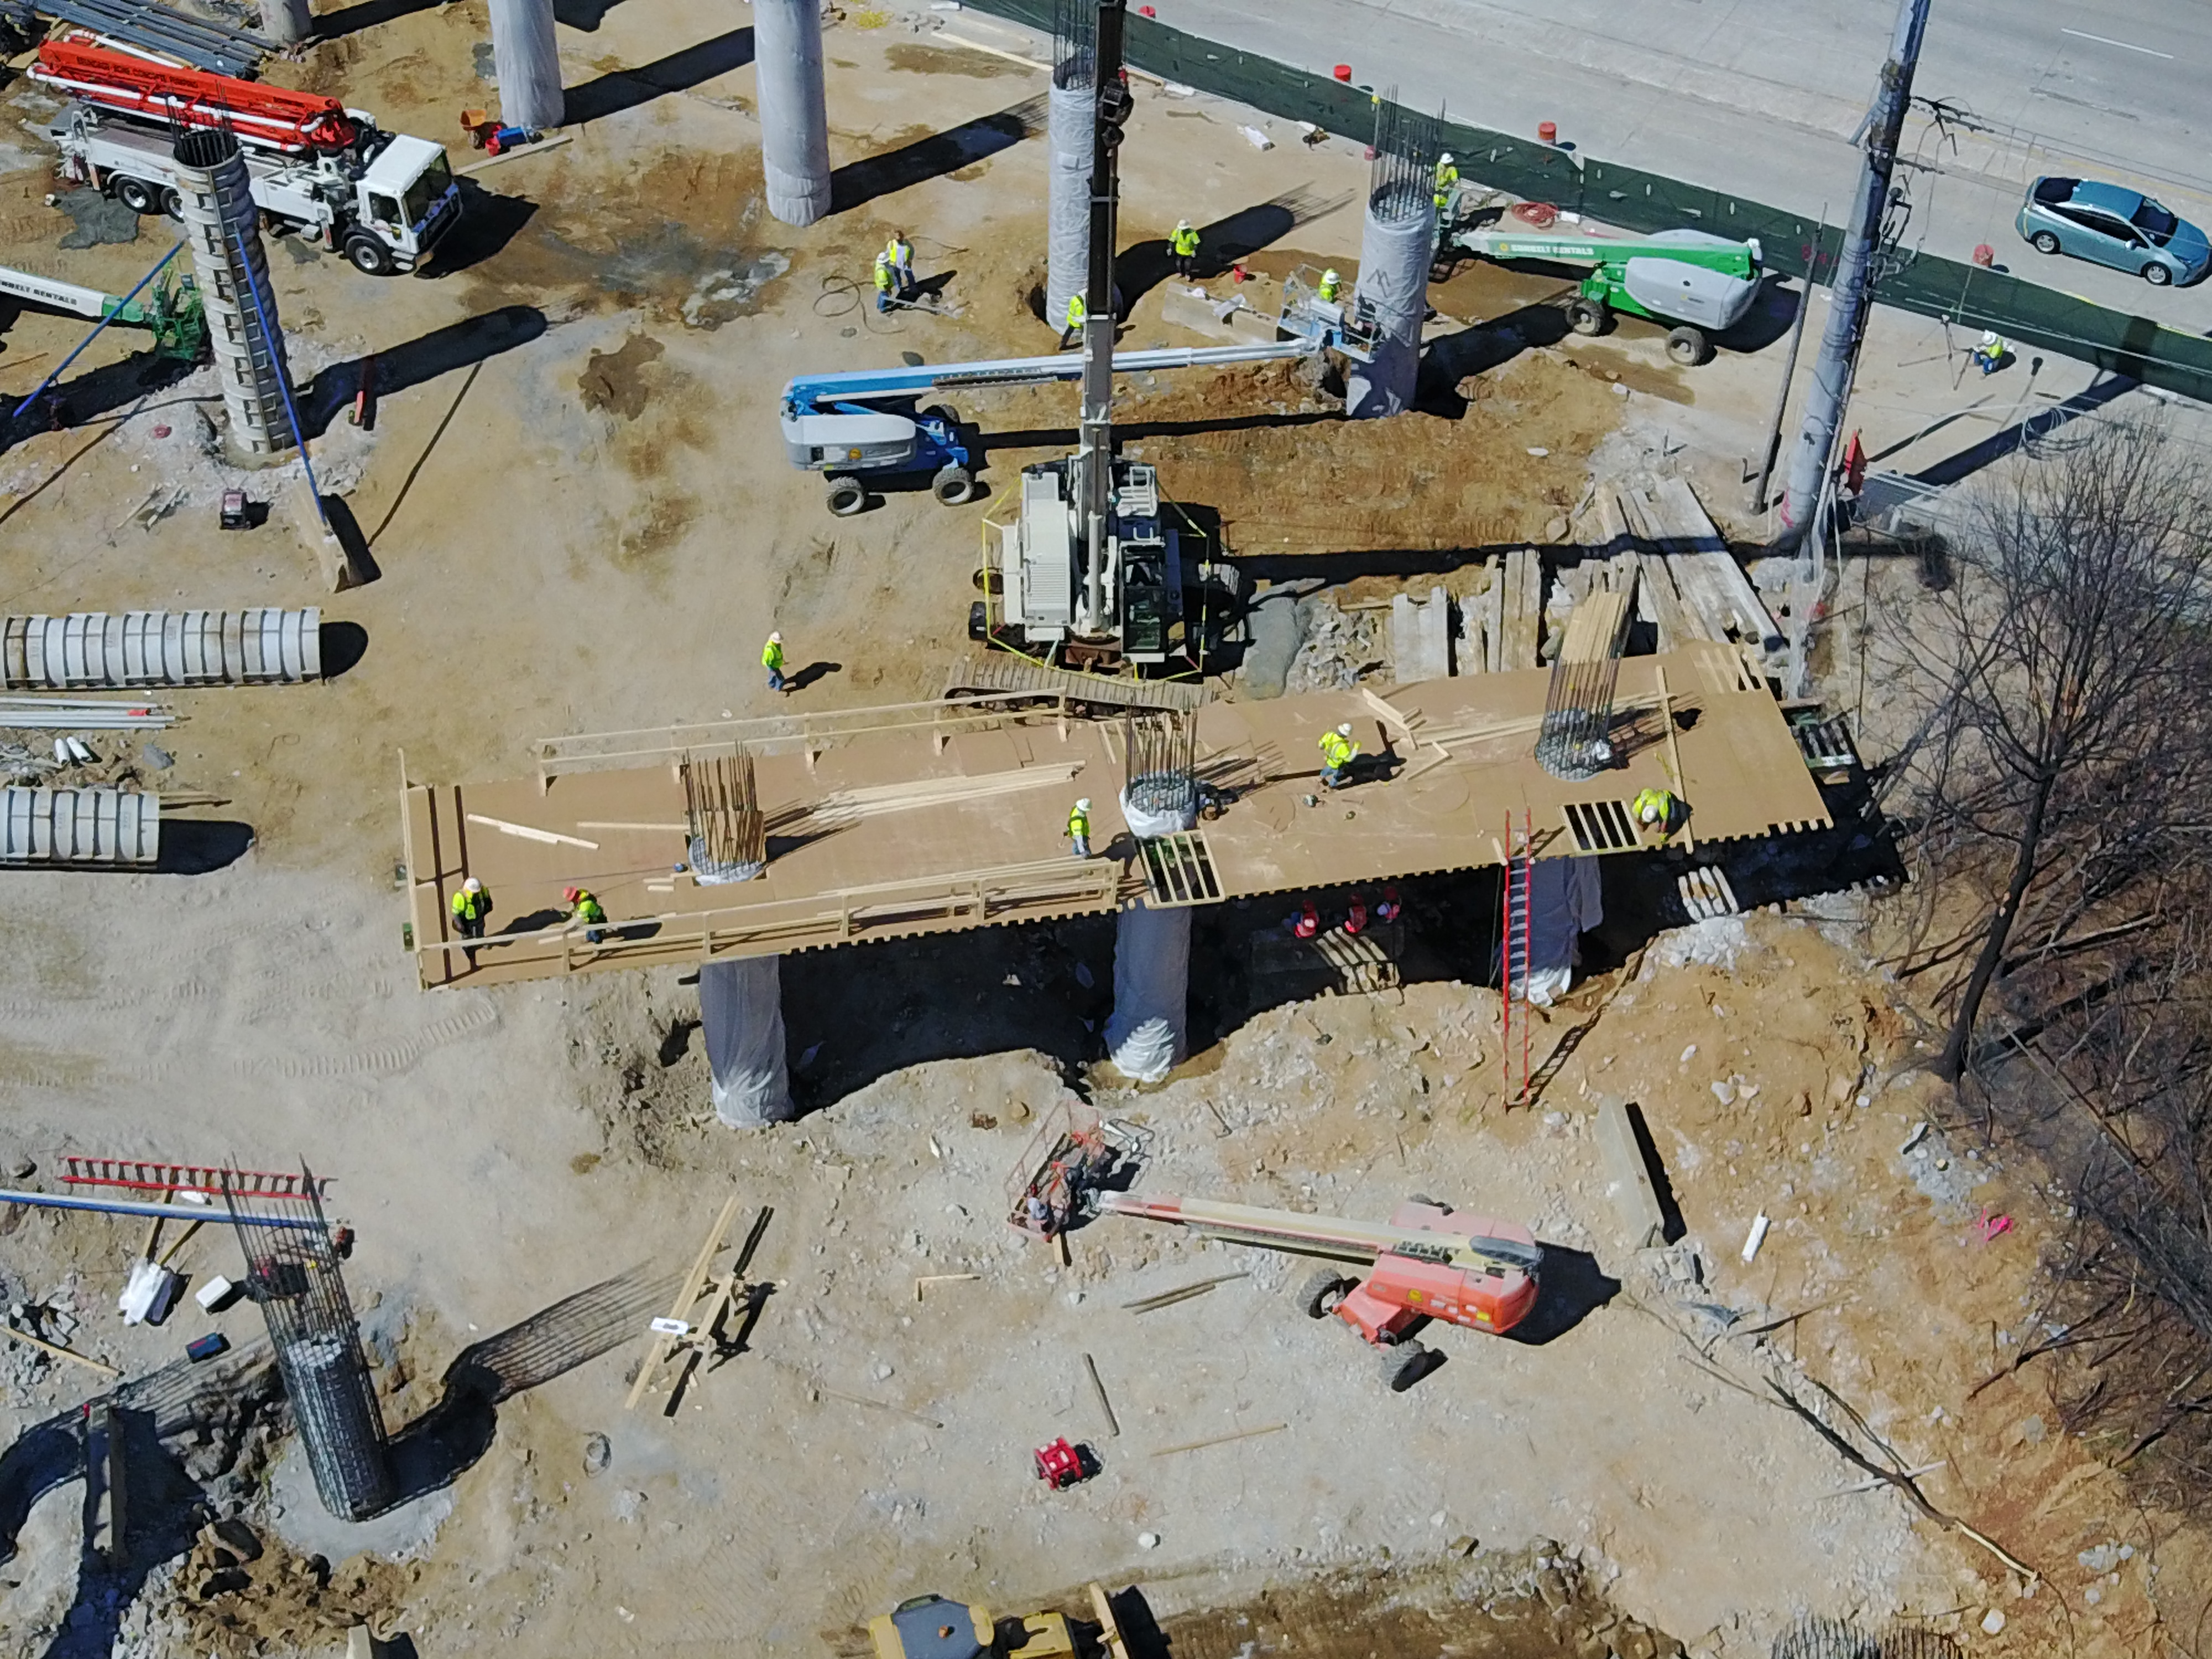crane: (1000, 1096, 1548, 1394), (775, 260, 1395, 521), (974, 66, 1223, 692), (28, 28, 467, 279), (1404, 179, 1768, 369), (0, 260, 216, 364)
